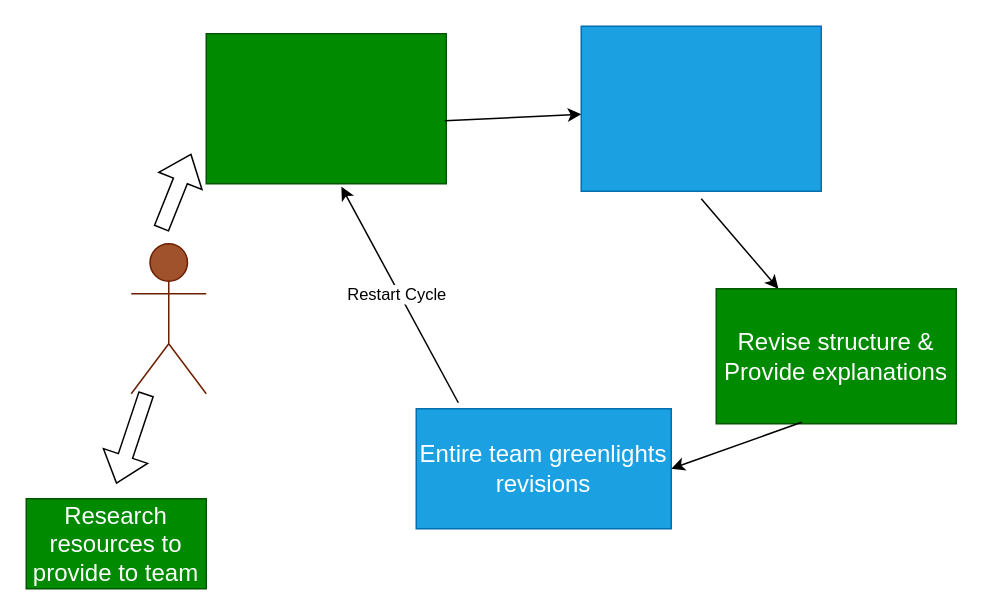
Image size: 983x615. Some labels were removed from this diagram. The centre of each missing label's shape, as x and y in pixels:
"Acquire feedback & constructive criticism" goes at point 700,108.
"Create narrative structure & dialogue writing" goes at point 325,108.
